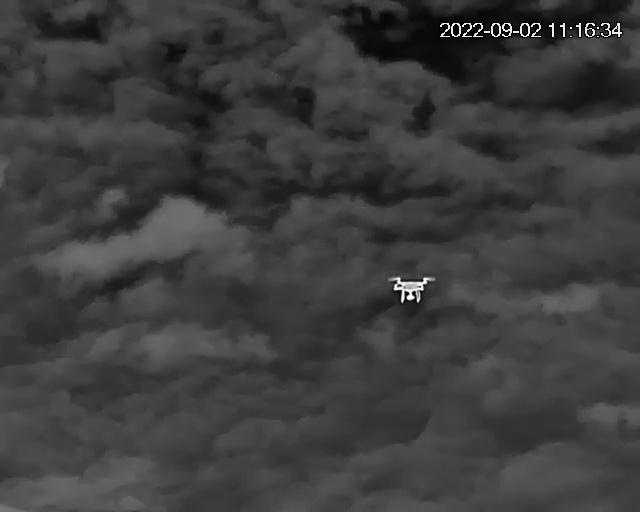DJI-Phantom: (386, 274, 438, 304)
